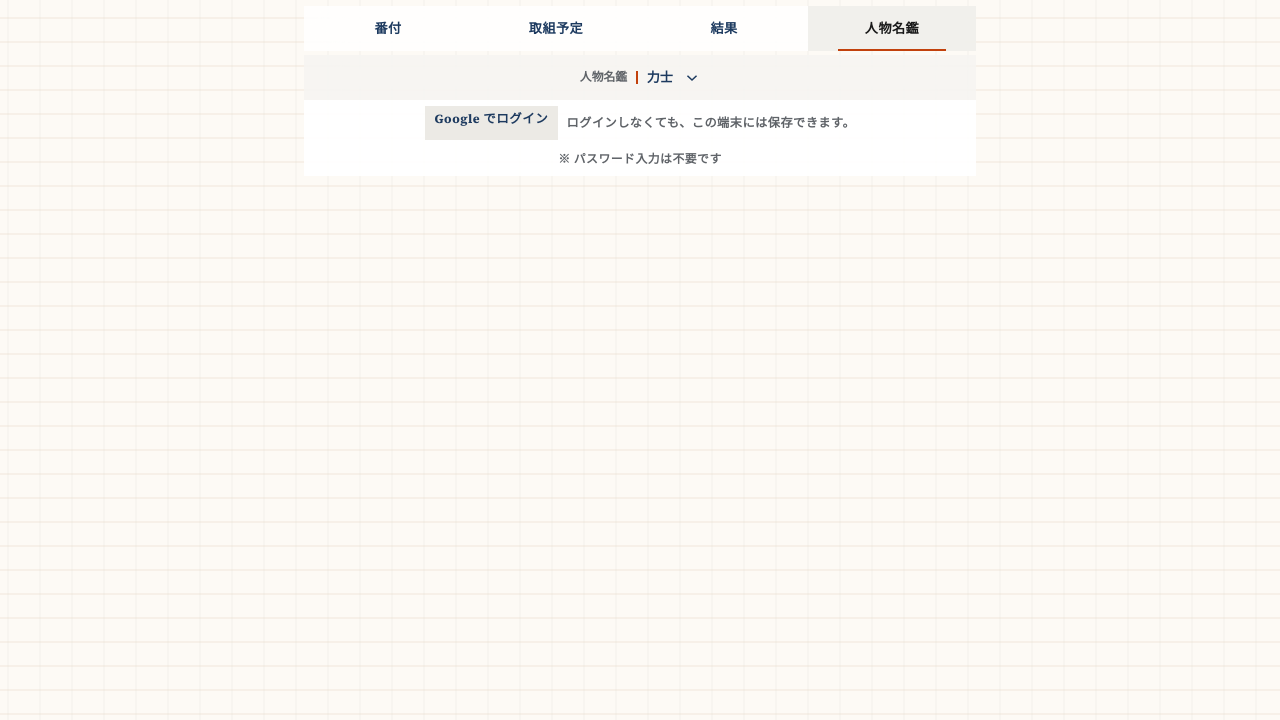
Test case: PrimaryNavigation › closes the people directory tray after navigating to another directory page
Click the button "人物名鑑 力士". click: x=640, y=78
box: [304,55,976,100]
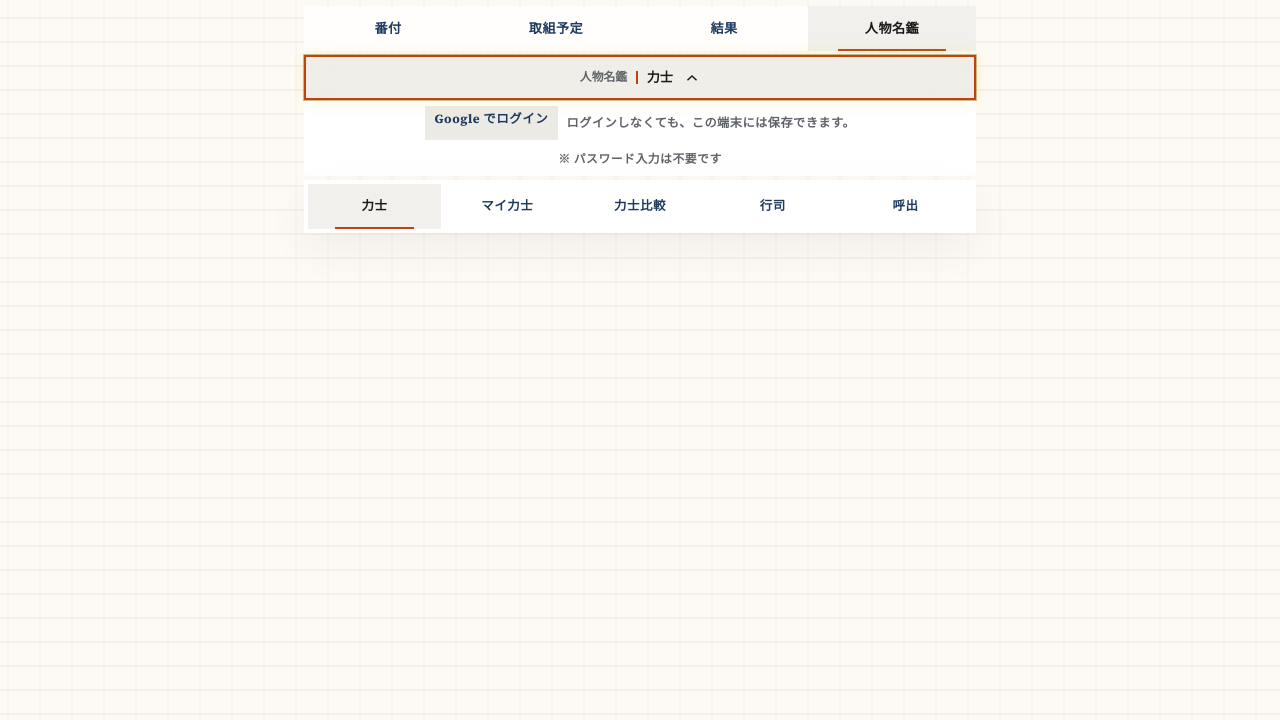
Click the link "行司". click: x=773, y=206
box: [760,197,786,214]
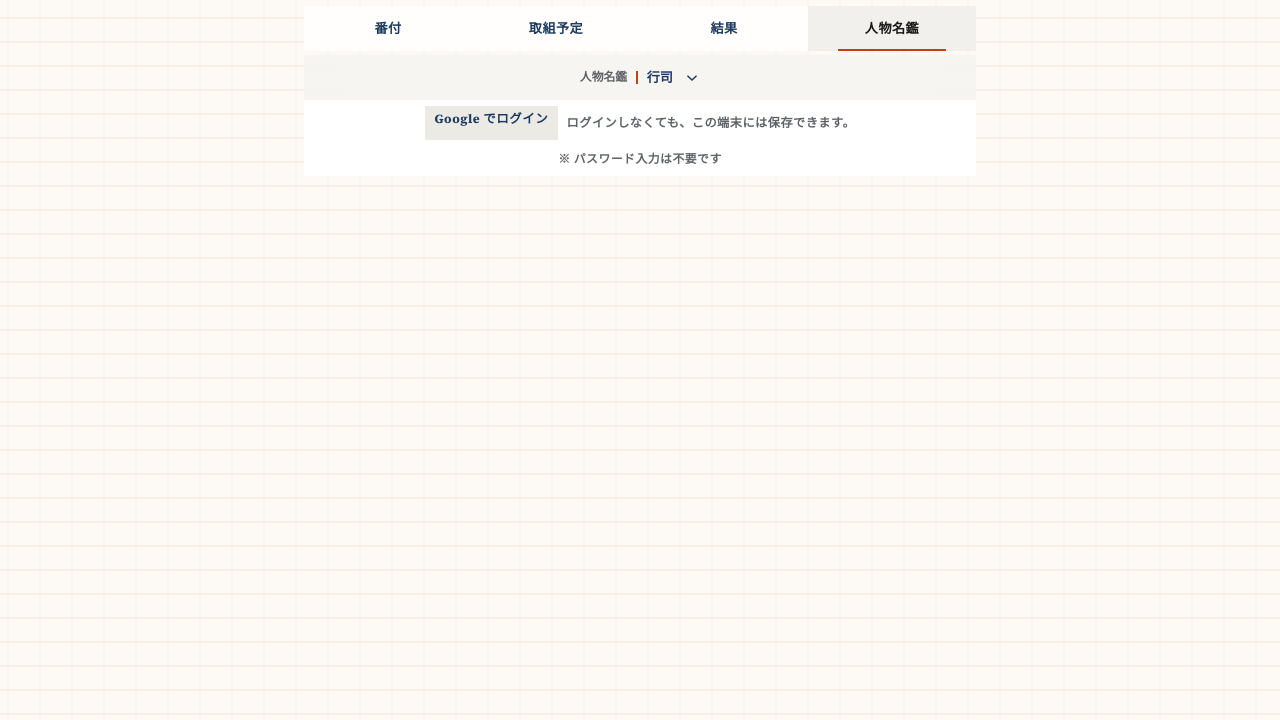
Expected: the button "人物名鑑 行司" is collapsed, [304,55,976,100]
